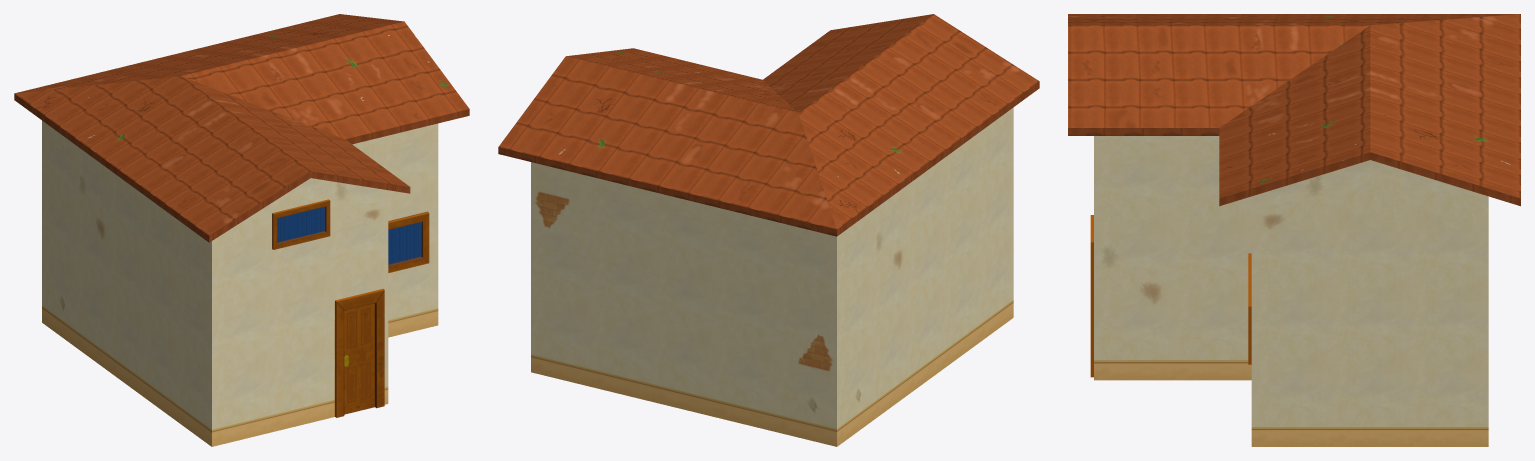
File: Houses_SuburbanHouse2.fbx
3 renders of one model, left to right at view 1: azimuth 30°, elevation 25°; view 2: azimuth 150°, elevation 25°; view 3: azimuth 270°, elevation 25°, orthographic. The views are drawn at different scales.
Parts seen in each view (by area): view 1: House2; view 2: House2; view 3: House2.
Part boxes in pixels (x1,y1,x2,y2): House2: (14, 14, 469, 446); House2: (498, 14, 1039, 446); House2: (1068, 14, 1520, 446).
Bounding box in the file's own units: 512 × 395 × 531.
Materials: 1 (1 with a texture image).
